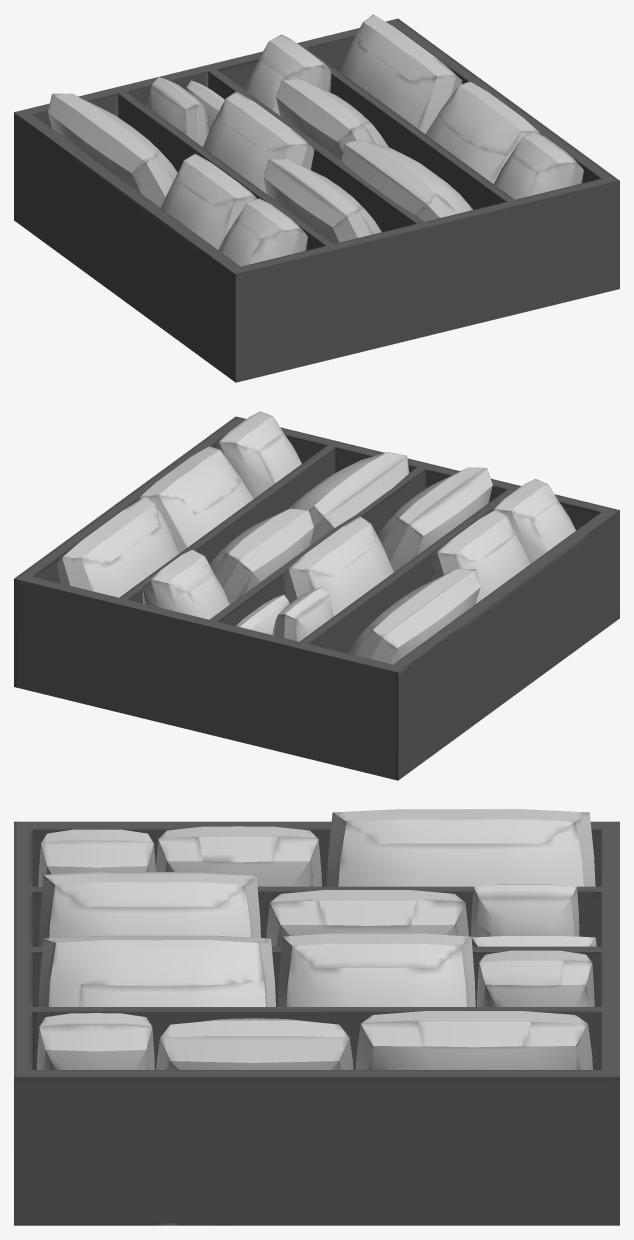
The model's file is Bags_A.fbx.
3 views of the same model, one above another, from view 1: azimuth 30°, elevation 25°; view 2: azimuth 150°, elevation 25°; view 3: azimuth 270°, elevation 25° (orthographic). The views are drawn at different scales.
Visible parts, largest first — view 1: Bags_A; view 2: Bags_A; view 3: Bags_A.
Part boxes in pixels (x1,y1,x2,y2): Bags_A: [14, 14, 619, 382]; Bags_A: [14, 411, 619, 780]; Bags_A: [14, 809, 619, 1225].
Bounding box in the file's own units: 200 × 65.88 × 200.
